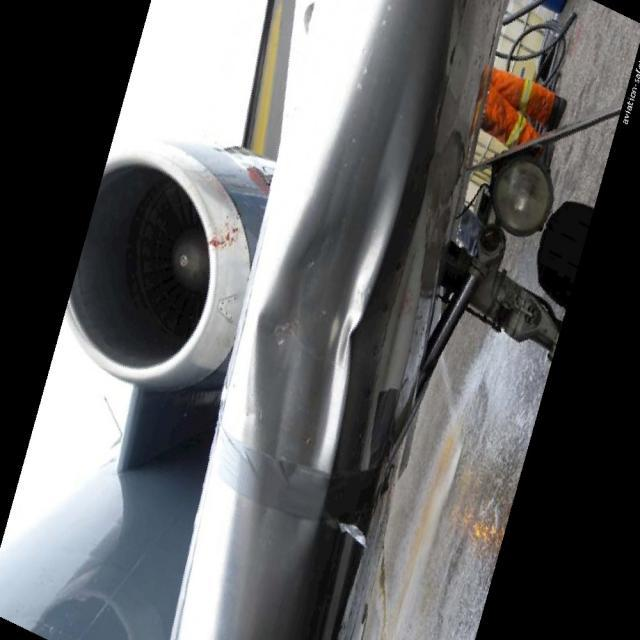dent: (245, 156, 407, 534)
